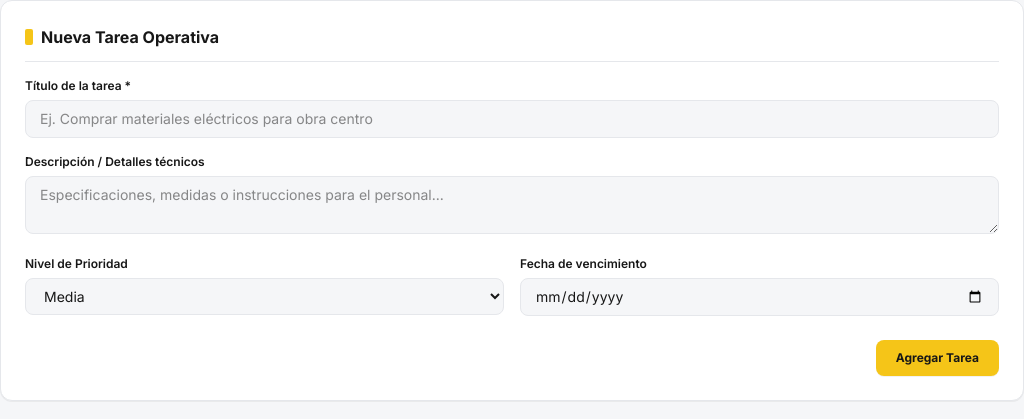
TodoForm Component › envía correctamente los datos del formulario y limpia los campos tras crear la tarea
Type "Revisar tablero eléctrico" into the field labelled "Título de la tarea *" at (512, 119), box [25,100,999,138]
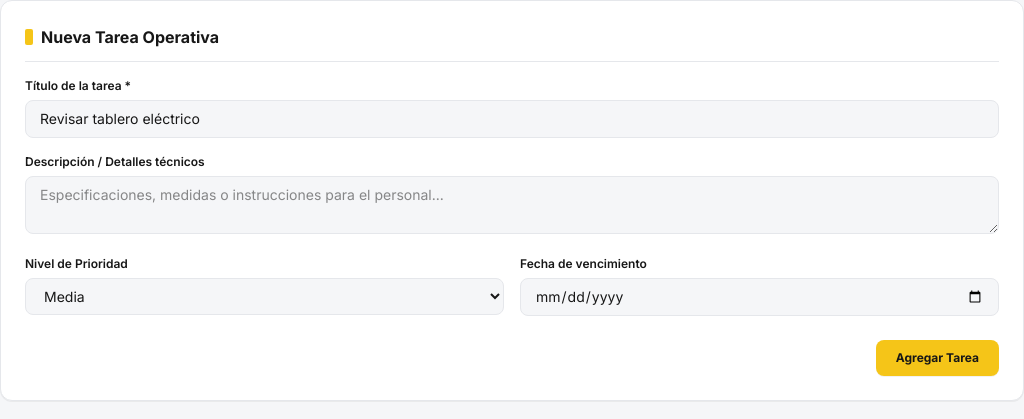
Replace the text in the text box labelled "Descripción / Detalles técnicos" with "Verificar térmicas y disyuntor" at (512, 205), box [25,176,999,234]
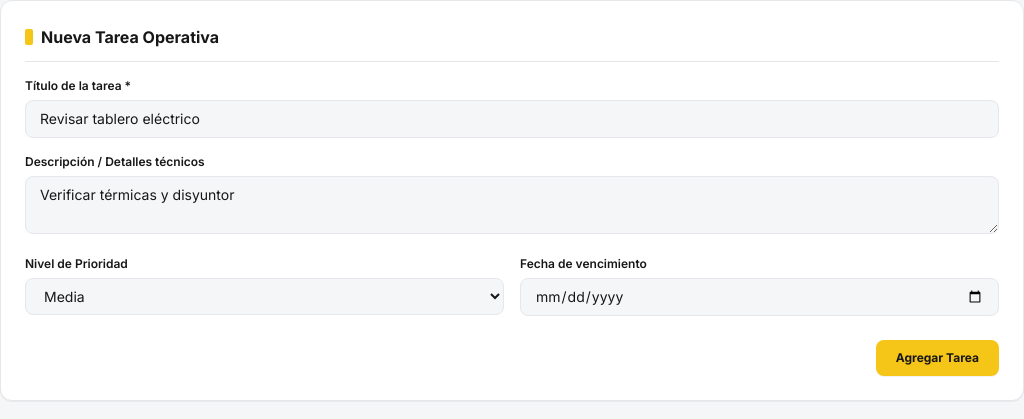
Select "Alta" in the dropdown labelled "Nivel de Prioridad" at (264, 296), box [25,278,504,315]
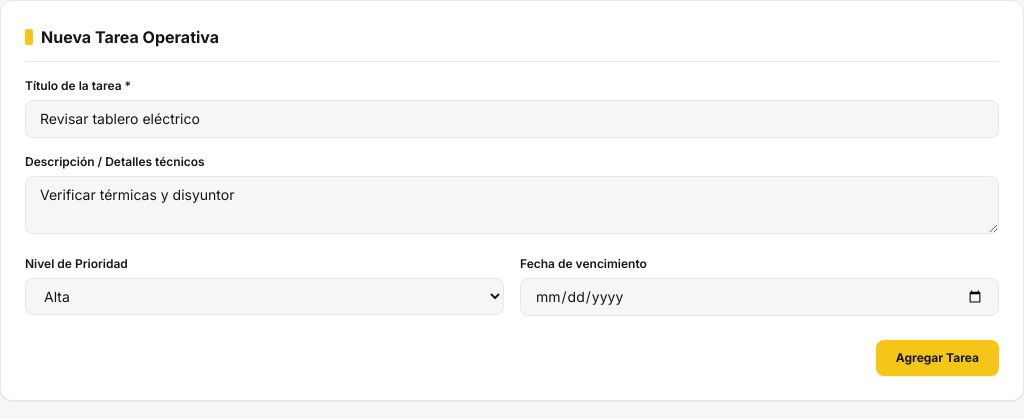
Click the button "Agregar Tarea" at (937, 358), box [876,340,999,376]
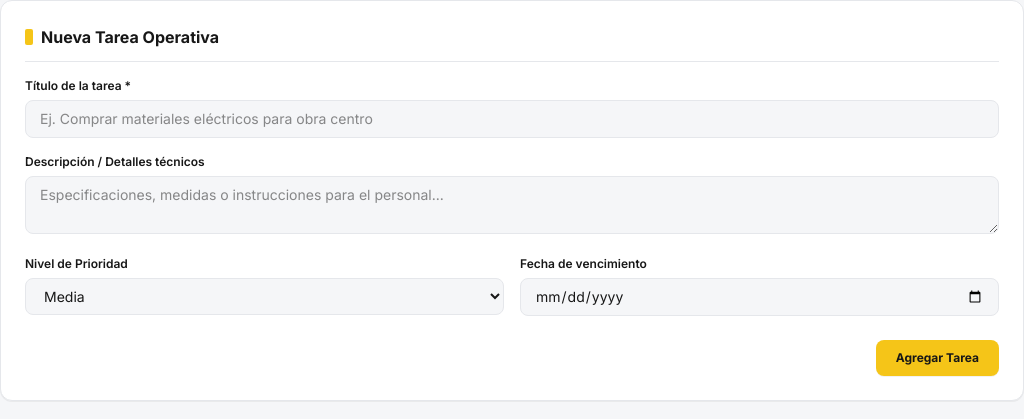
Check: the field labelled "Título de la tarea *" is empty, box [25,100,999,138]
